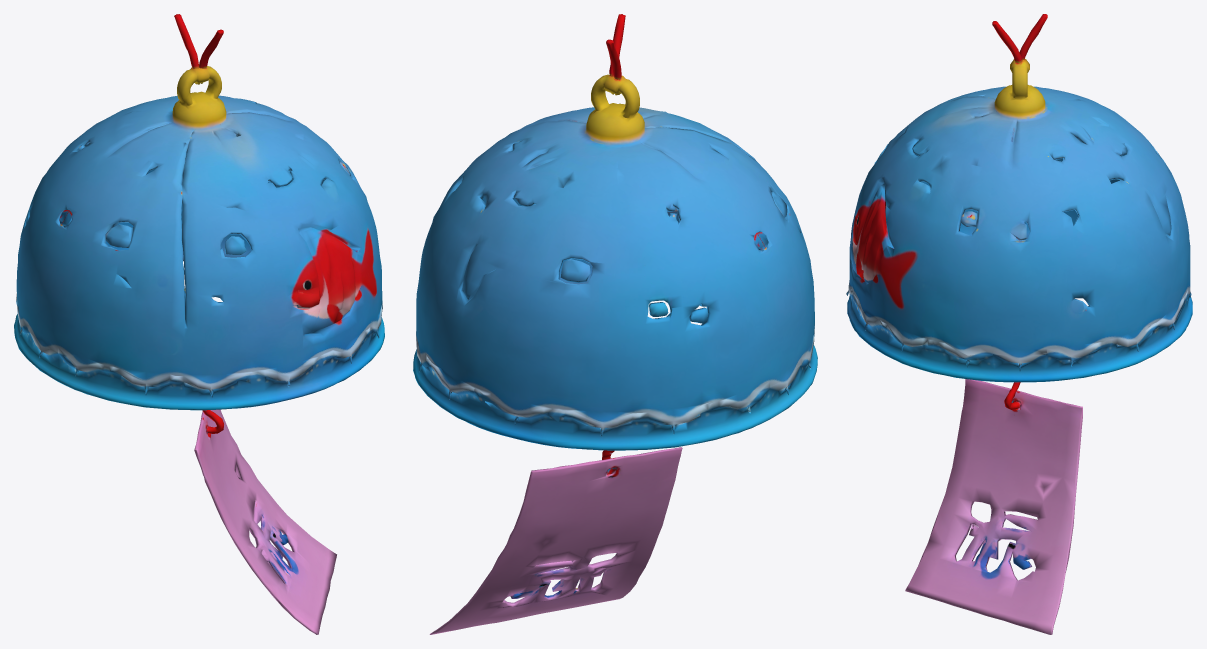
The model's file is 風鈴の3dモデル.glb.
3 views of the same model, side by side, from view 1: azimuth 30°, elevation 25°; view 2: azimuth 150°, elevation 25°; view 3: azimuth 270°, elevation 25° (orthographic). The views are drawn at different scales.
Parts seen in each view (by area): view 1: tripo_node_d212122c-d70d-473d-af03-9ae10598c81e; view 2: tripo_node_d212122c-d70d-473d-af03-9ae10598c81e; view 3: tripo_node_d212122c-d70d-473d-af03-9ae10598c81e.
Part boxes in pixels (<box>): tripo_node_d212122c-d70d-473d-af03-9ae10598c81e: <box>14,14,384,634</box>; tripo_node_d212122c-d70d-473d-af03-9ae10598c81e: <box>413,14,817,634</box>; tripo_node_d212122c-d70d-473d-af03-9ae10598c81e: <box>846,14,1192,634</box>.
Bounding box in the file's own units: 0.5721 × 0.9977 × 0.574.
1 material, 1 textured.
